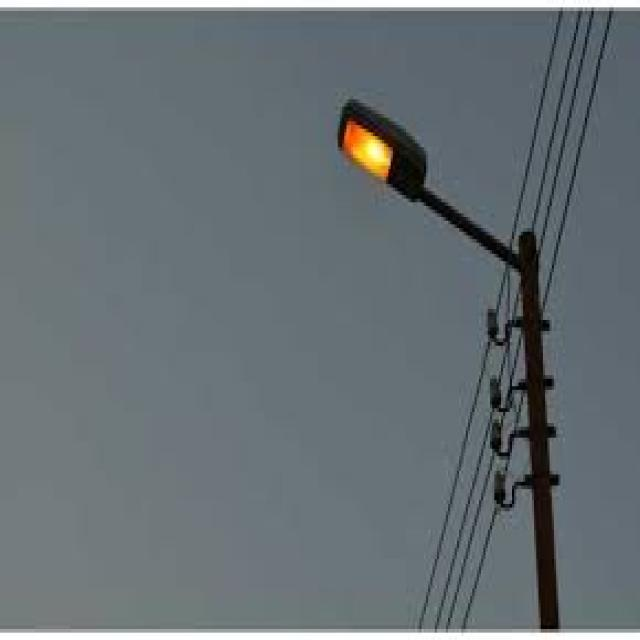Street Light: (335, 95, 560, 640)
